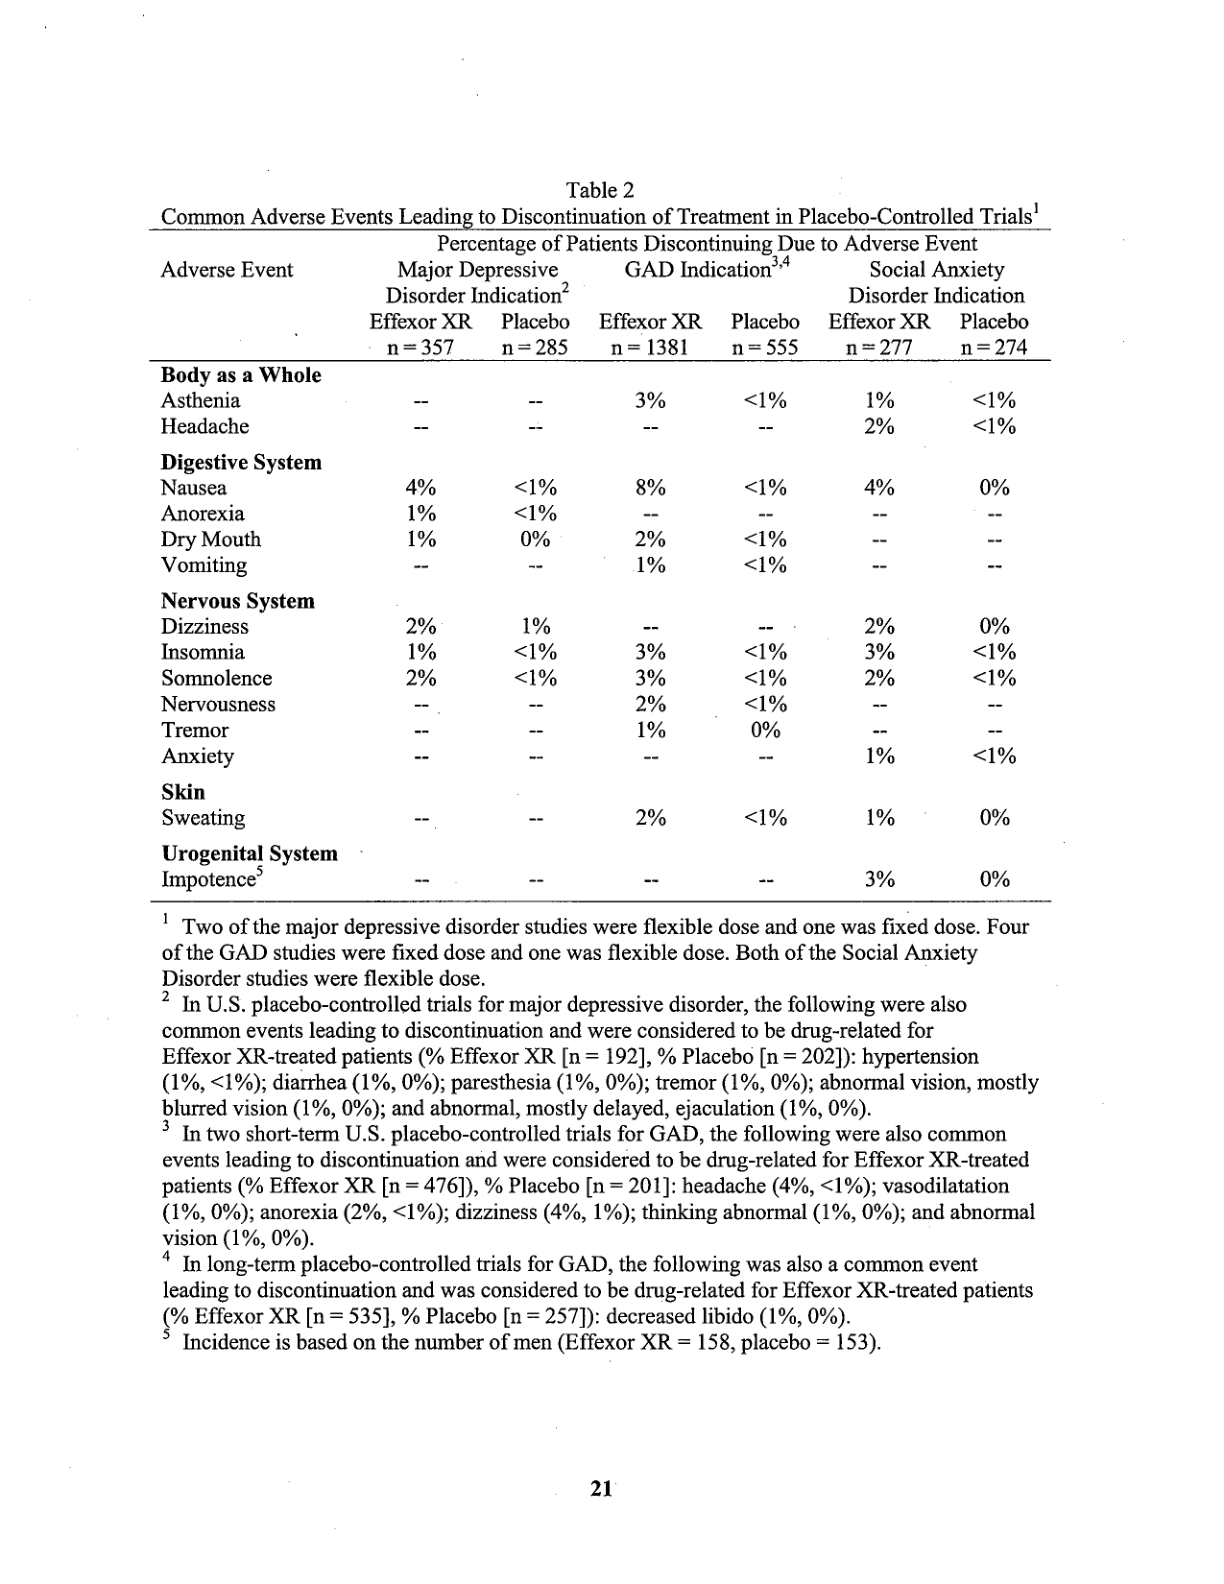partial_lined_merged_cells: (147, 226, 1056, 906)
